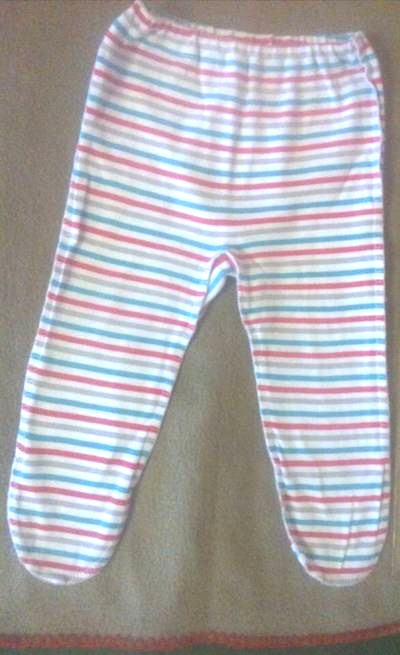Pants: (0, 23, 392, 604)
